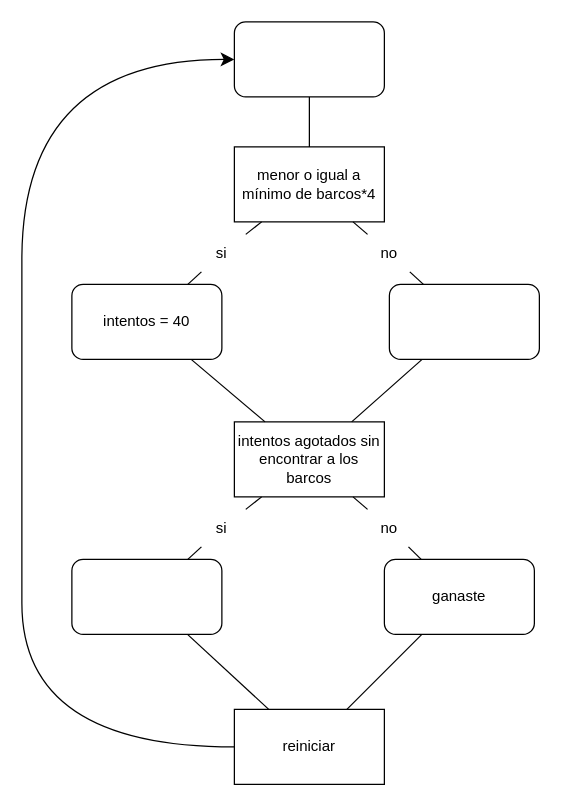
Some shapes in this 561 by 806 pixel diagram are drawn without their labels. Here are the shapes that lost their labels. From the top down, the box of each, then its label:
(233, 21, 384, 97): selección de n intentos
(388, 283, 539, 359): intentos = seleccionados
(71, 558, 222, 634): perdiste
